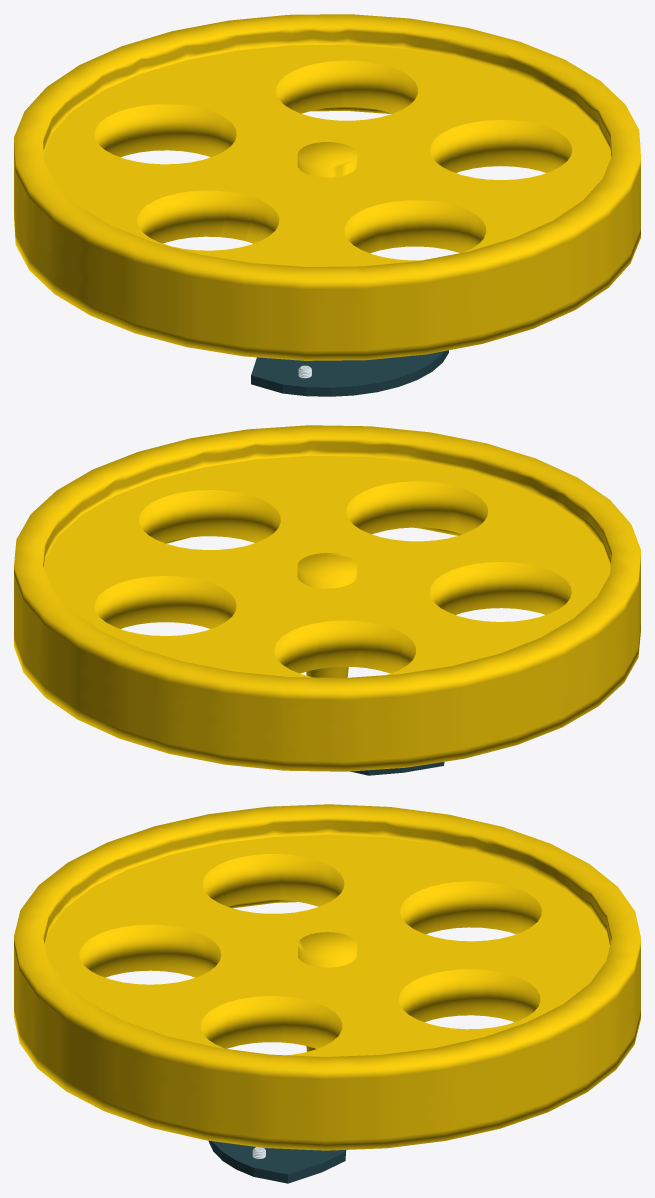
The model's file is Gear1.glb.
The picture shows the model from 3 angles, top to bottom: view 1: azimuth 30°, elevation 25°; view 2: azimuth 150°, elevation 25°; view 3: azimuth 270°, elevation 25°; orthographic projection.
Visible parts, largest first — view 1: Cylinder.011, Circle.002; view 2: Cylinder.011; view 3: Cylinder.011, Circle.002.
Part boxes in pixels (left/top/right/bottom): Cylinder.011: left=14, top=14, right=640, bottom=360; Circle.002: left=251, top=350, right=448, bottom=396; Cylinder.011: left=14, top=425, right=640, bottom=771; Cylinder.011: left=14, top=804, right=640, bottom=1150; Circle.002: left=208, top=1140, right=346, bottom=1183.
Bounding box in the file's own units: 4.95 × 1.75 × 4.95.
